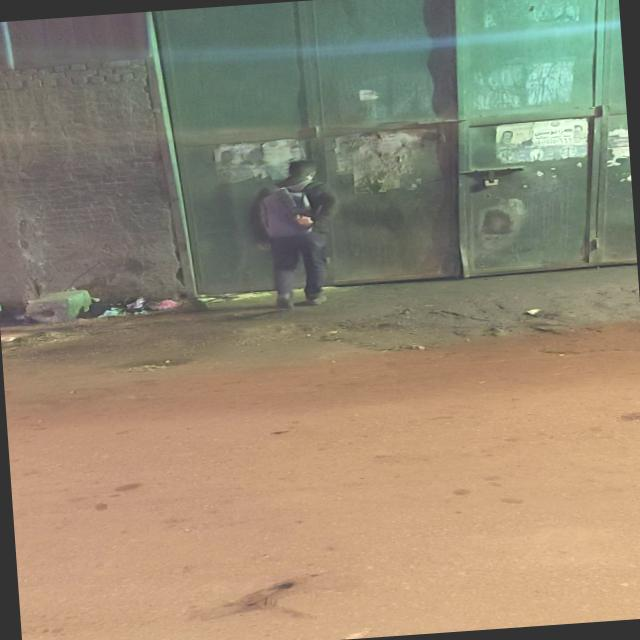long weapon: (270, 180, 330, 236)
